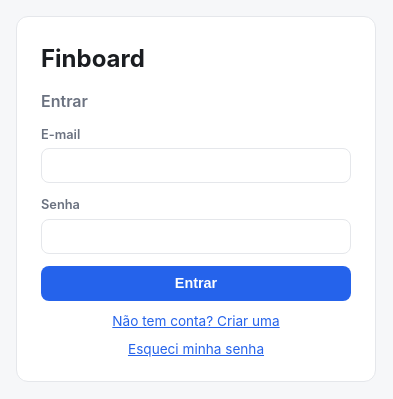
Test case: Esqueci minha senha › só oferece a recuperação no modo de login
The width and height of the screenshot is (393, 399).
Click the button "Não tem conta? Criar uma".
click(196, 321)  # box [41, 313, 351, 329]
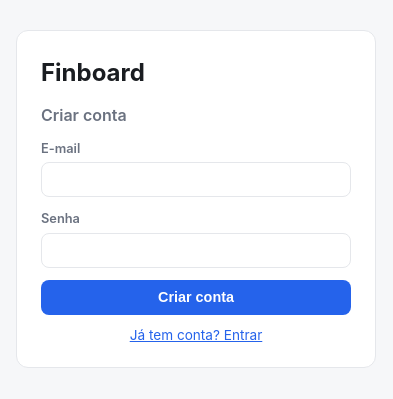
Expected: the button "Esqueci minha senha" is gone
